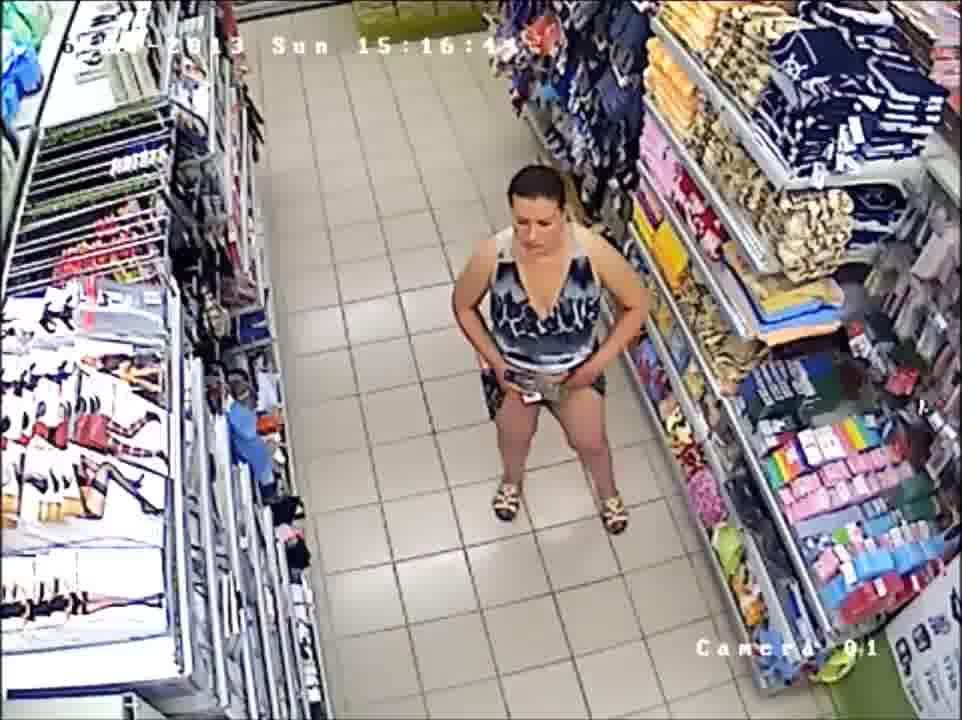shoplifting: (443, 153, 663, 544)
